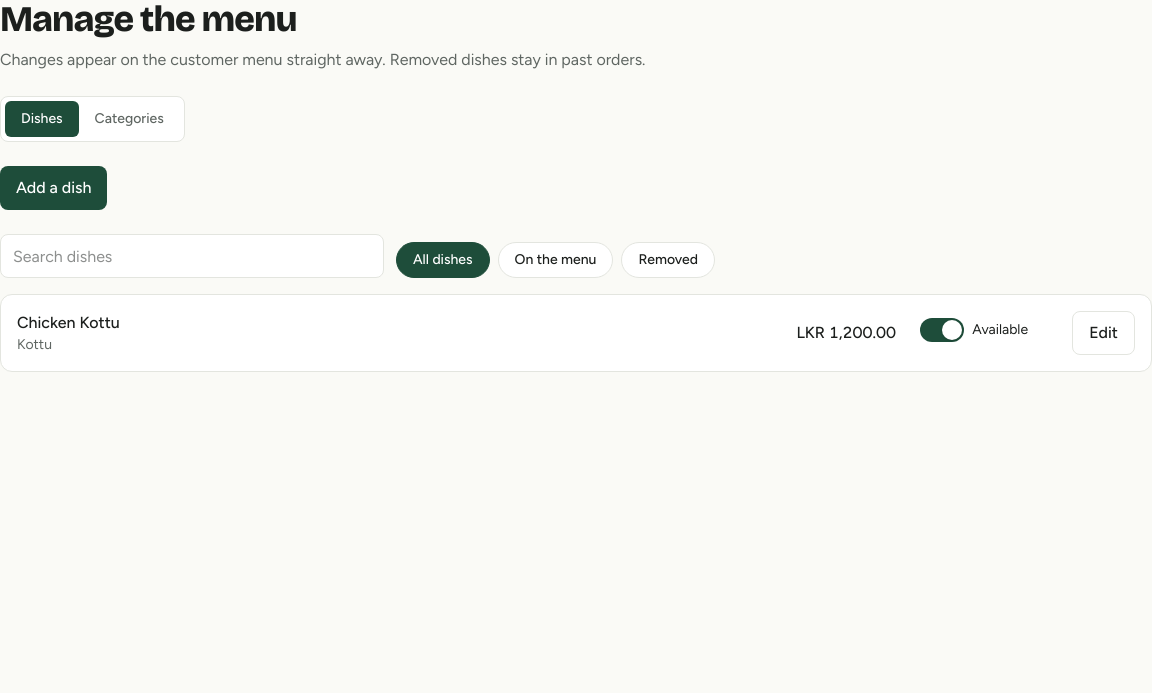
it: ManageMenuPage: dishes › validates a new dish, then creates it with a decimal-string price
Later steps or results of the test are not shown.
What coordinates should you click on to do the following:
click the button "Add a dish"
I would click on:
 (54, 188)
Its box is [0, 166, 107, 210].
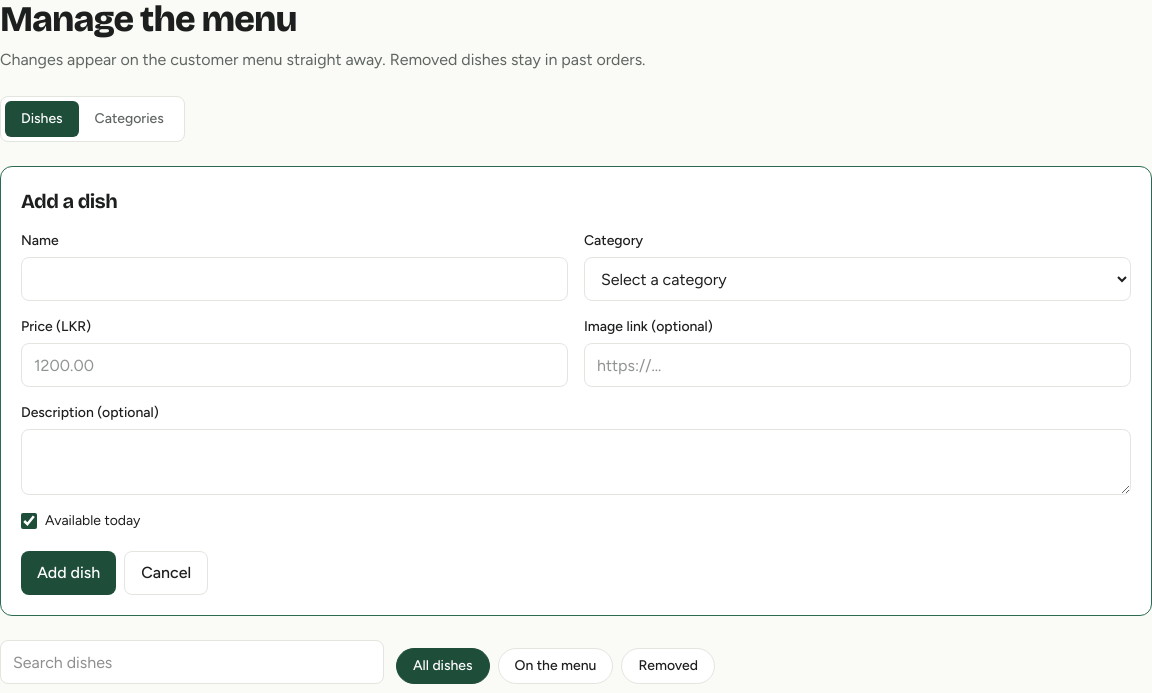
What coordinates should you click on to do the following:
click the button "Add dish"
I would click on:
 (69, 573)
Its box is [21, 551, 116, 595].
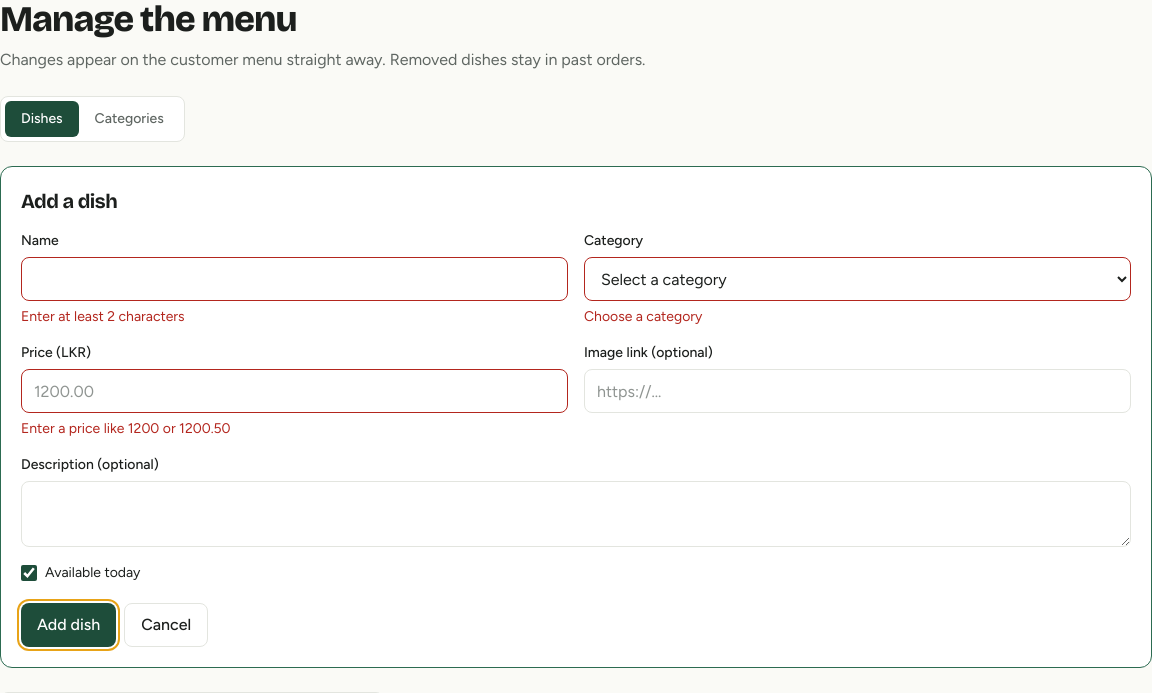
Expected: the text "Choose a category" is shown, [584, 308, 702, 325]
Expected: the text "Enter a price like 1200 or 1200.50" is shown, [21, 420, 231, 437]
